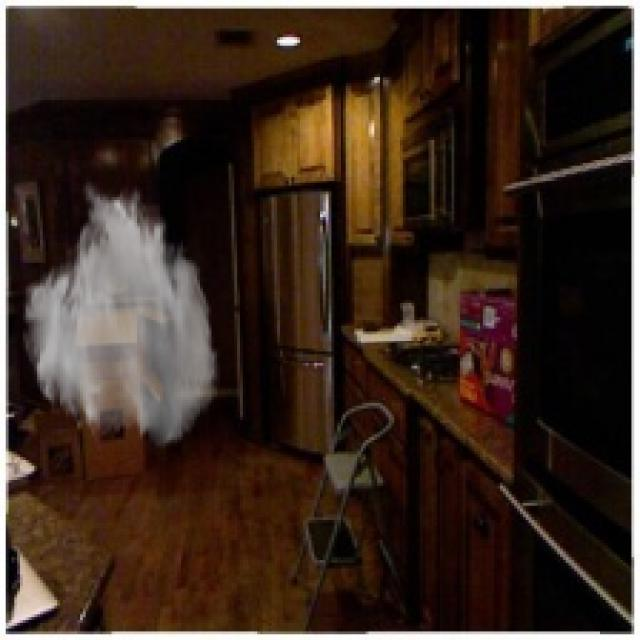Smoke: (20, 177, 220, 452)
